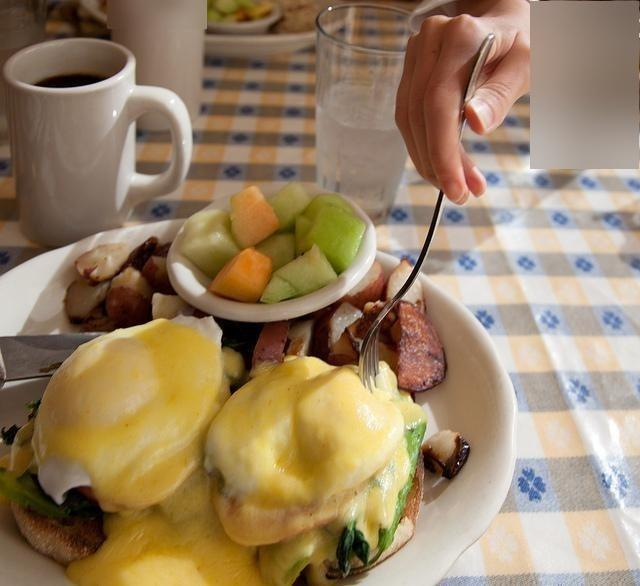cup-handle: (5, 36, 193, 233)
glass-normal: (314, 4, 423, 225)
